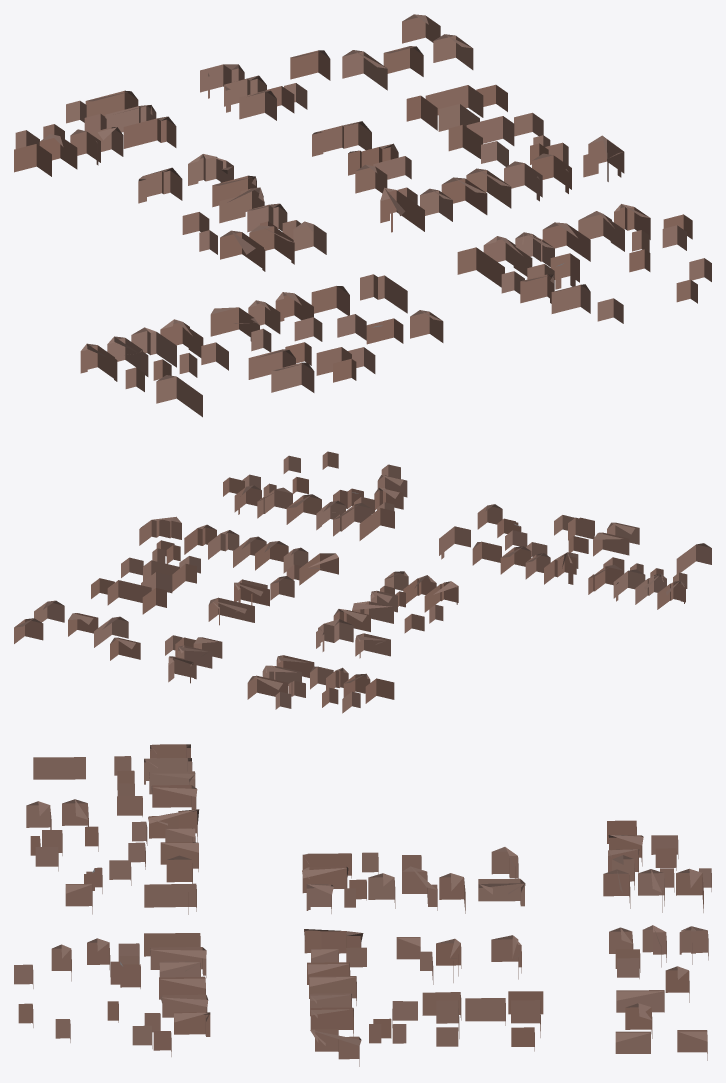
Rendered from c_1643_17827_buildings_residential.glb.
3 views of the same model, one above another, from view 1: azimuth 30°, elevation 25°; view 2: azimuth 150°, elevation 25°; view 3: azimuth 270°, elevation 25° (orthographic). The views are drawn at different scales.
Visible parts, largest first — view 1: geometry_0; view 2: geometry_0; view 3: geometry_0.
Part boxes in pixels (<box>): geometry_0: <box>14,14,711,417</box>; geometry_0: <box>14,451,711,713</box>; geometry_0: <box>14,744,711,1066</box>.
Bounding box in the file's own units: 267 × 10.94 × 261.
